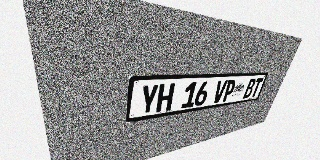1: (181, 82, 199, 109)
6: (193, 81, 211, 107)
B: (242, 78, 257, 99)
H: (156, 83, 175, 113)
P: (221, 80, 237, 102)
T: (250, 78, 263, 97)
V: (212, 80, 228, 104)
Y: (139, 84, 159, 115)
